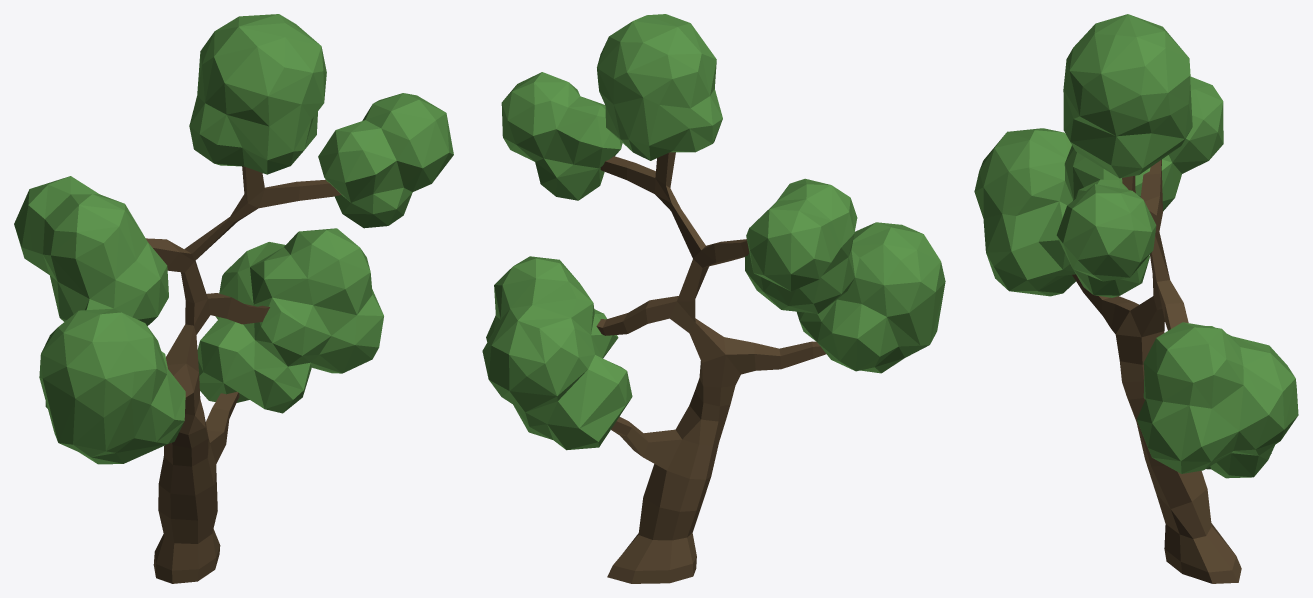
The model's file is tree05.fbx.
3 renders of one model, left to right at view 1: azimuth 30°, elevation 25°; view 2: azimuth 150°, elevation 25°; view 3: azimuth 270°, elevation 25°, orthographic. The views are drawn at different scales.
Parts seen in each view (by area): view 1: polySurface24, polySurface27, polySurface23, polySurface26, polySurface25; view 2: polySurface24, polySurface23, polySurface27, polySurface26, polySurface25; view 3: polySurface27, polySurface24, polySurface26, polySurface23, polySurface25.
Boxes of the visible parts, box(x1,y1,x2,y2) form: polySurface24: box(14, 176, 185, 464); polySurface27: box(197, 228, 383, 413); polySurface23: box(146, 166, 341, 583); polySurface26: box(189, 14, 326, 174); polySurface25: box(318, 93, 453, 228); polySurface24: box(745, 178, 945, 373); polySurface23: box(596, 152, 826, 583); polySurface27: box(482, 256, 632, 450); polySurface26: box(597, 14, 722, 160); polySurface25: box(501, 72, 622, 200); polySurface27: box(1136, 322, 1298, 478); polySurface24: box(974, 76, 1223, 296); polySurface26: box(1063, 14, 1192, 178); polySurface23: box(1072, 159, 1241, 583); polySurface25: box(1056, 179, 1156, 297).
Bounding box in the file's own units: 335 × 411 × 216.
